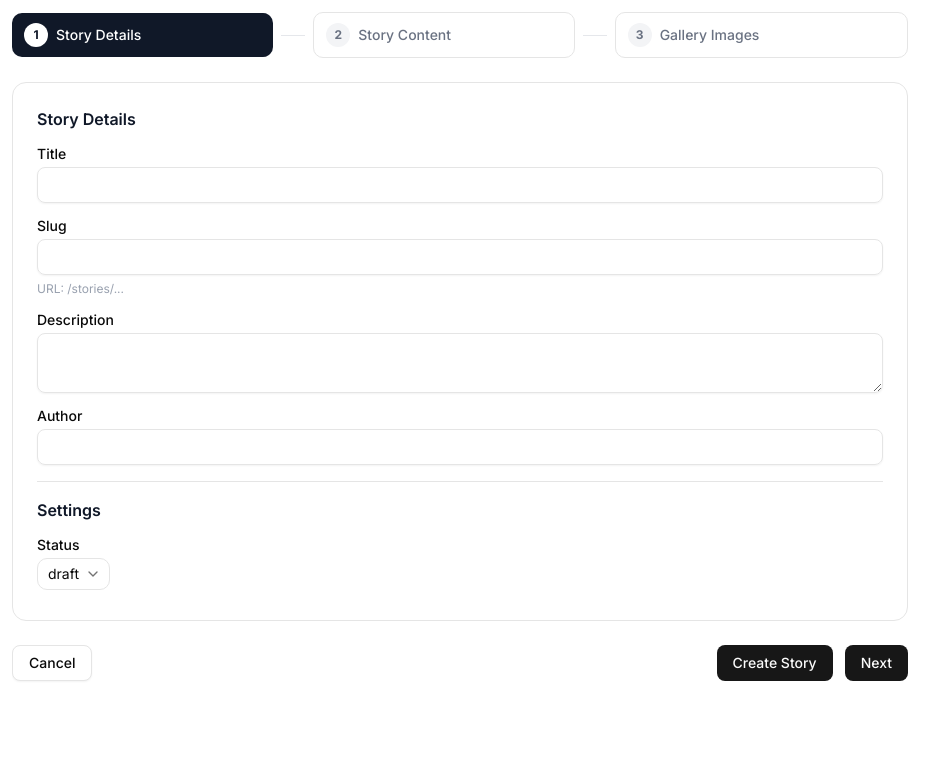
Test: title required validation › shows error when submitting without title
The width and height of the screenshot is (925, 771).
Click the button "Create Story". click: (775, 663)
box: [716, 645, 833, 681]
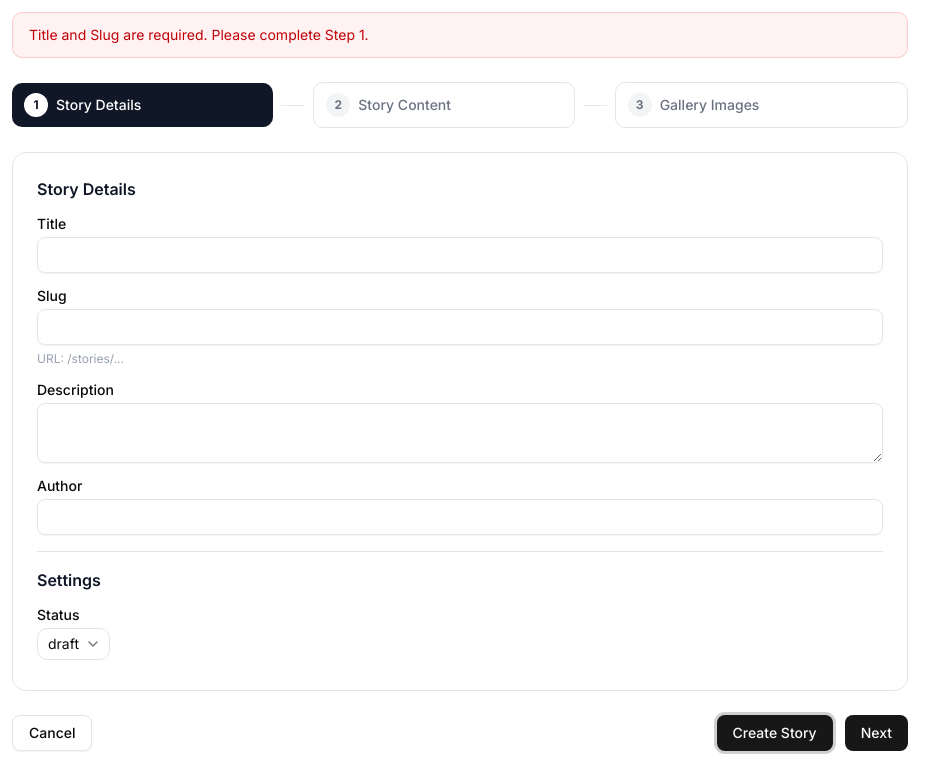
Now the text "Title and Slug are required. Please complete Step 1." is shown, box [12, 12, 908, 58]
